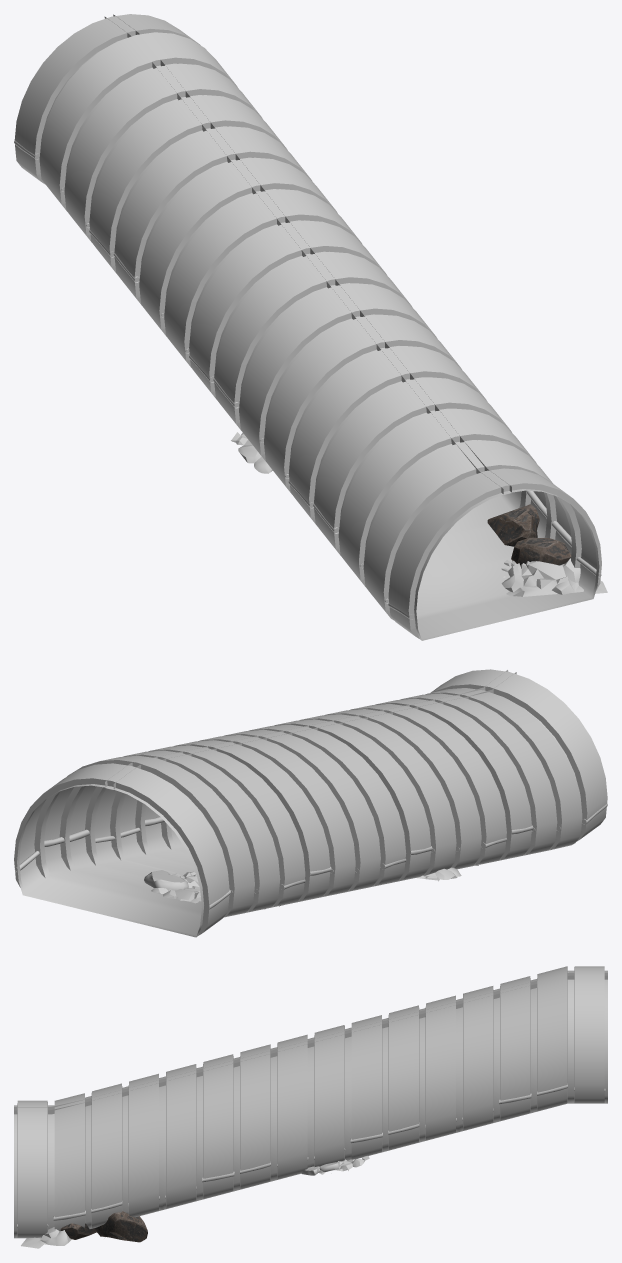
File: ElevationChange.DAE
3 views of the same model, one above another, from view 1: azimuth 30°, elevation 25°; view 2: azimuth 150°, elevation 25°; view 3: azimuth 270°, elevation 25° (orthographic). The views are drawn at different scales.
Visible parts, largest first — view 1: Shaft, RockPile, Rocks; view 2: Shaft, RockPile, Concrete; view 3: Shaft, Rocks, RockPile.
Part boxes in pixels (<box>): Shaft: <box>14,14,601,640</box>; RockPile: <box>231,432,607,596</box>; Rocks: <box>487,504,571,565</box>; Shaft: <box>14,669,607,937</box>; RockPile: <box>151,867,461,903</box>; Concrete: <box>144,870,188,890</box>; Shaft: <box>14,966,607,1238</box>; Rocks: <box>60,1211,147,1242</box>; RockPile: <box>21,1156,369,1248</box>.
Bounding box in the file's own units: 623 × 2000 × 871.
